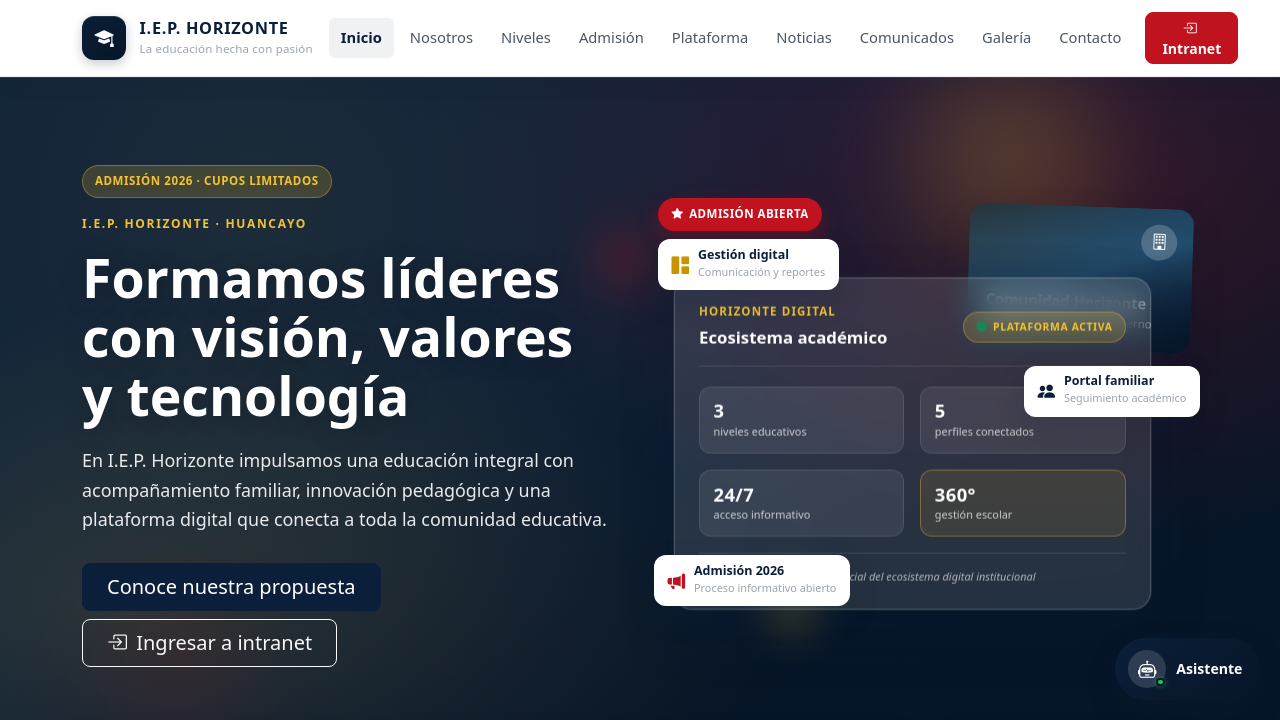
Test: Web pública › navega a la página Plataforma Digital
The image size is (1280, 720).
Click the link with test id "nav-platform" at (711, 37), box [672,27,749,47]
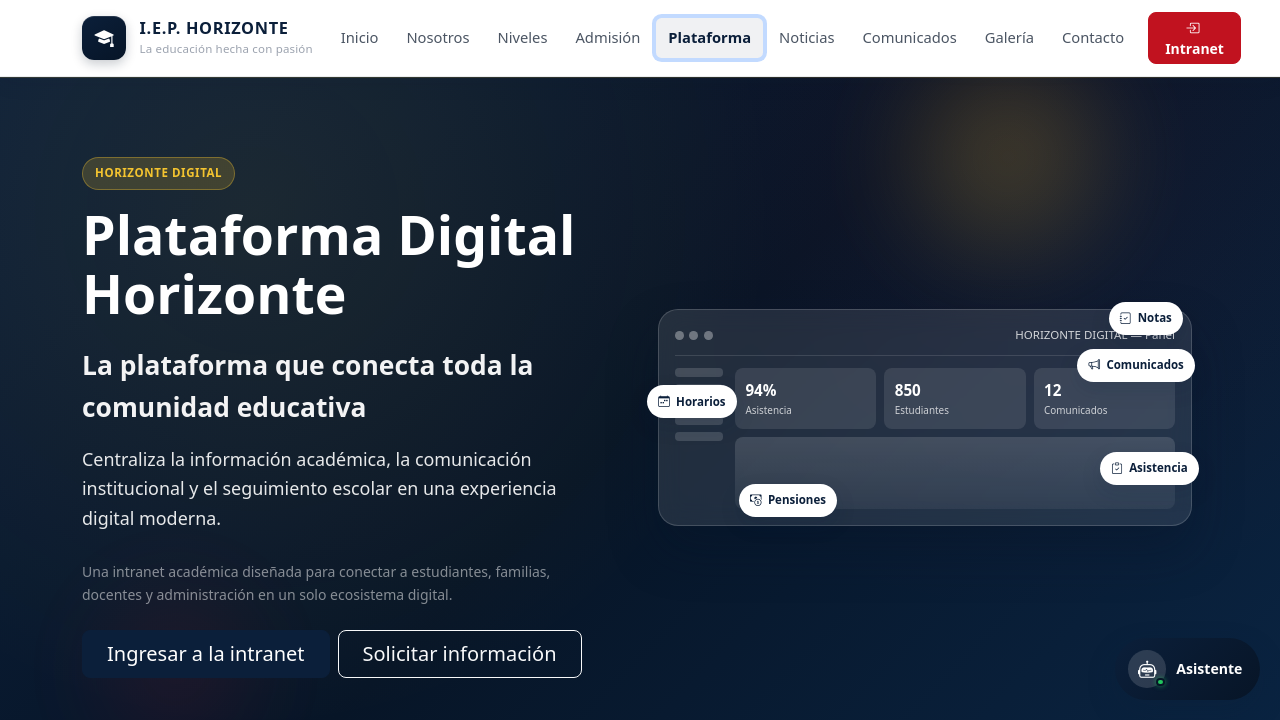
Now the element with test id "platform-page" is shown
Now the element with test id "platform-page" shows "Plataforma Digital Horizonte"
Now the element with test id "platform-page" shows "La plataforma que conecta"
Click the link with test id "platform-login-cta" at (206, 654), box [82,630,330,678]
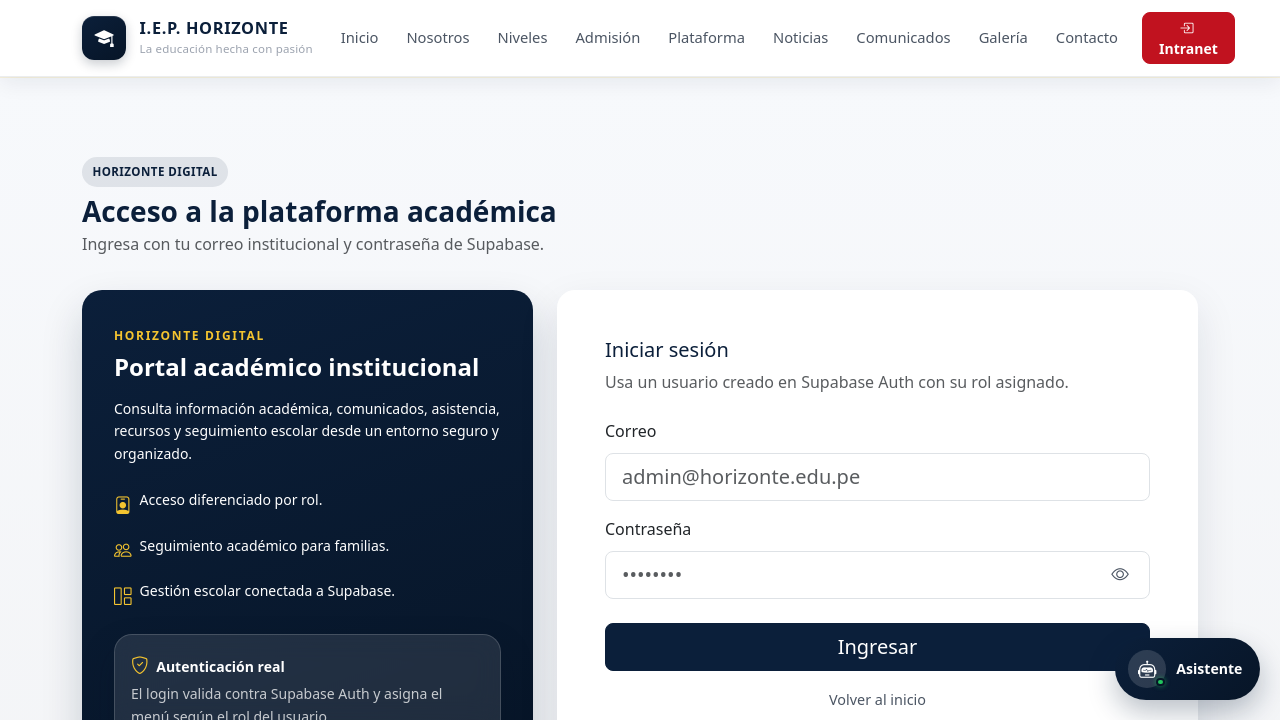
Now the form with test id "login-form" is shown, box [605,419,1150,670]
